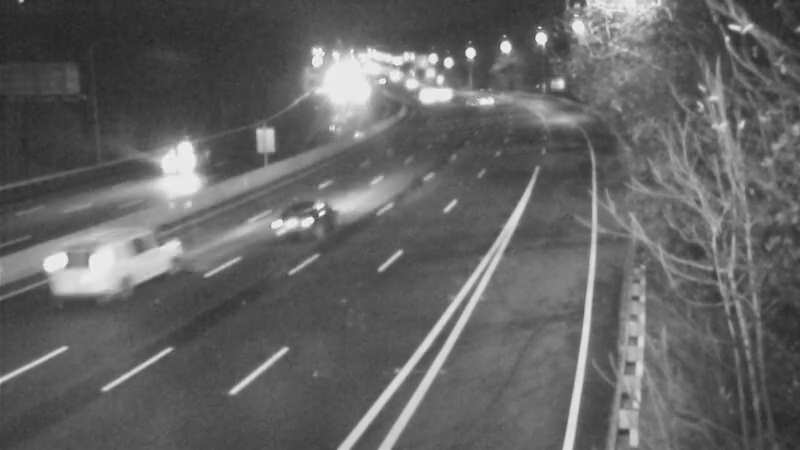vehicle: (257, 185, 337, 265), (36, 231, 116, 311), (136, 118, 216, 198), (415, 66, 465, 116), (402, 67, 452, 117), (463, 71, 513, 121)
